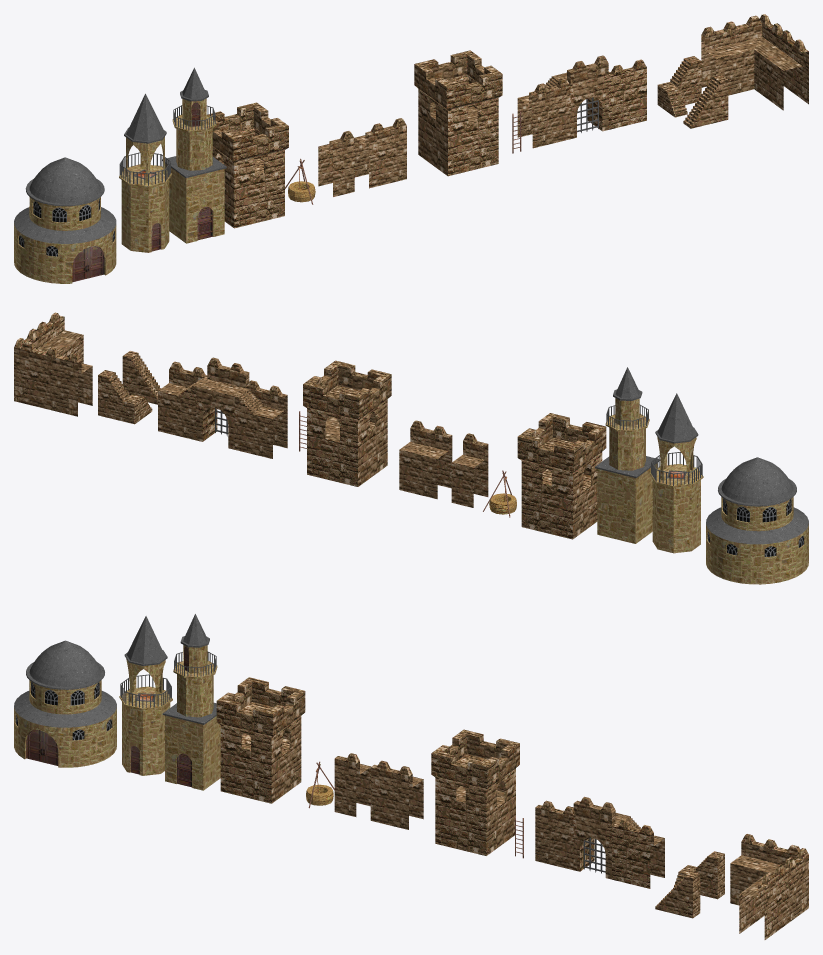
Rendered from PSX_Modular_Castle.glb.
The picture shows the model from 3 angles, top to bottom: view 1: azimuth 30°, elevation 25°; view 2: azimuth 150°, elevation 25°; view 3: azimuth 330°, elevation 25°; orthographic projection.
Visible parts, largest first — view 1: Temple, Tower1_(Corner), Gate, Tower2, Temple_Tower, Wall_(Corner), Temple_Tower2, Wall, WalL_Half, Stairs2, Stairs1, Well; view 2: Temple, Tower1_(Corner), Tower2, Gate, Temple_Tower, Temple_Tower2, Wall_(Corner), Wall, WalL_Half, Stairs2, Stairs1, Well; view 3: Temple, Tower2, Tower1_(Corner), Gate, Temple_Tower, Wall_(Corner), Temple_Tower2, Wall, WalL_Half, Stairs1, Stairs2, Well.
Boxes of the visible parts, bbox=[...] form: Temple: bbox=[14, 157, 116, 283]; Tower1_(Corner): bbox=[414, 50, 502, 176]; Gate: bbox=[517, 55, 646, 148]; Tower2: bbox=[208, 102, 288, 228]; Temple_Tower: bbox=[162, 67, 226, 243]; Wall_(Corner): bbox=[701, 14, 808, 110]; Temple_Tower2: bbox=[119, 93, 171, 252]; Wall: bbox=[354, 118, 406, 188]; WalL_Half: bbox=[318, 131, 354, 196]; Stairs2: bbox=[657, 56, 701, 117]; Stairs1: bbox=[683, 74, 728, 128]; Well: bbox=[285, 158, 315, 204]; Temple: bbox=[706, 457, 808, 584]; Tower1_(Corner): bbox=[303, 360, 391, 486]; Tower2: bbox=[517, 413, 606, 539]; Gate: bbox=[158, 357, 287, 458]; Temple_Tower: bbox=[595, 367, 660, 543]; Temple_Tower2: bbox=[650, 393, 703, 553]; Wall_(Corner): bbox=[14, 312, 92, 416]; Wall: bbox=[399, 420, 452, 499]; WalL_Half: bbox=[451, 433, 488, 507]; Stairs2: bbox=[98, 370, 152, 424]; Stairs1: bbox=[122, 351, 161, 404]; Well: bbox=[483, 470, 516, 517]; Temple: bbox=[14, 640, 116, 767]; Tower2: bbox=[216, 677, 305, 803]; Tower1_(Corner): bbox=[431, 729, 519, 855]; Gate: bbox=[535, 796, 664, 888]; Temple_Tower: bbox=[162, 614, 220, 790]; Wall_(Corner): bbox=[730, 834, 808, 939]; Temple_Tower2: bbox=[119, 616, 172, 775]; Wall: bbox=[370, 760, 423, 829]; WalL_Half: bbox=[334, 753, 371, 816]; Stairs1: bbox=[655, 871, 700, 918]; Stairs2: bbox=[674, 851, 724, 899]; Well: bbox=[306, 761, 334, 808].
Size of the model in its own units: 60.13 by 12.33 by 7.
Materials: 11 (11 with a texture image).
